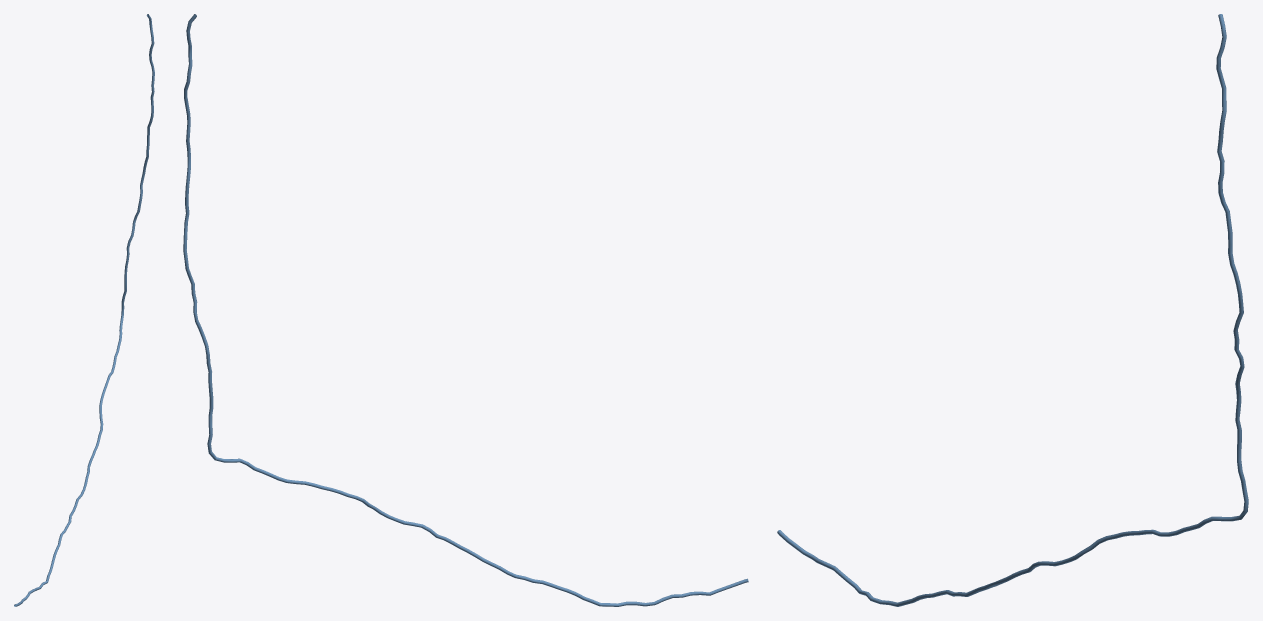
Rendered from sweep160.fbx.
3 renders of one model, left to right at view 1: azimuth 30°, elevation 25°; view 2: azimuth 150°, elevation 25°; view 3: azimuth 270°, elevation 25°, orthographic. The views are drawn at different scales.
Visible parts, largest first — view 1: sweep160; view 2: sweep160; view 3: sweep160.
Part boxes in pixels (x1,y1,x2,y2): sweep160: (14,14,154,606); sweep160: (183,14,748,606); sweep160: (777,14,1248,606).
Size of the model in its own units: 2.33 by 3.66 by 2.06.
